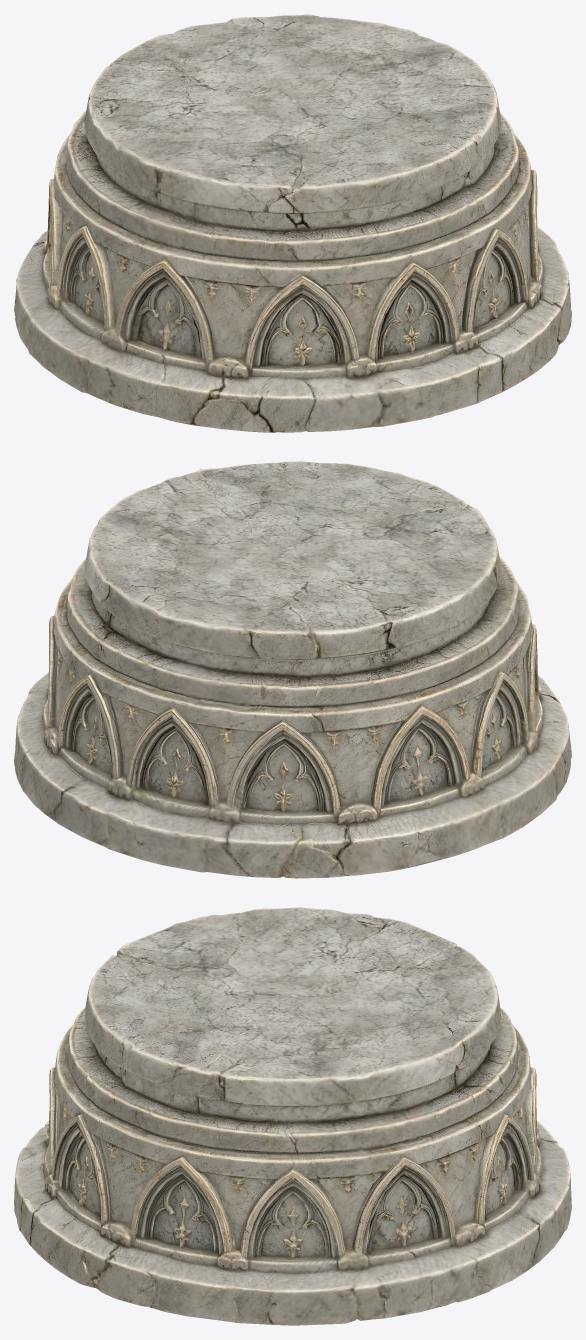
Rendered from base-white.glb.
3 renders of one model, top to bottom at view 1: azimuth 30°, elevation 25°; view 2: azimuth 150°, elevation 25°; view 3: azimuth 270°, elevation 25°, orthographic.
Parts seen in each view (by area): view 1: PieceBase; view 2: PieceBase; view 3: PieceBase.
Boxes of the visible parts, x1=… form: PieceBase: x1=14, y1=14, x2=571, y2=432; PieceBase: x1=14, y1=461, x2=571, y2=878; PieceBase: x1=14, y1=907, x2=571, y2=1325.
Size of the model in its own units: 1 by 0.4253 by 0.9991.
1 material, 1 textured.
